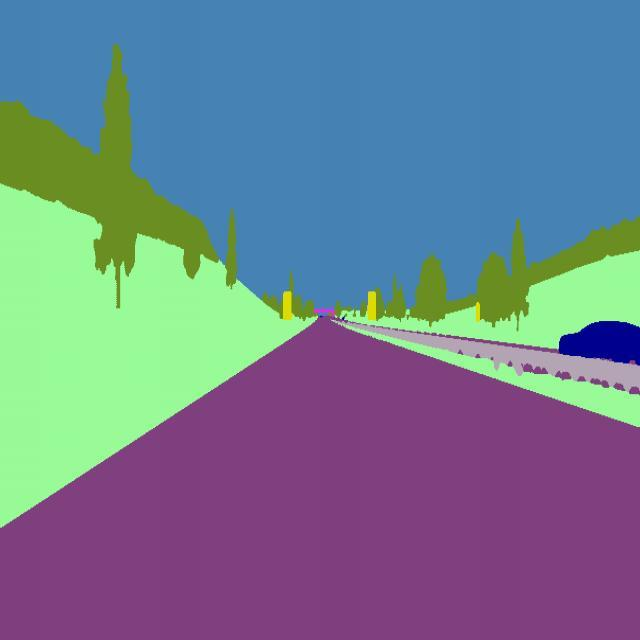safe: (553, 310, 640, 390)
